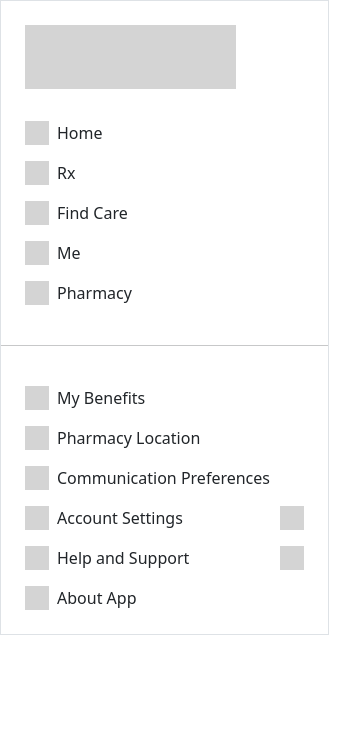
Test: Sidebar Component › toggles the "Account Settings" dropdown correctly
Expected: the text "Patient Account" is not shown
# Click to open dropdown
Click the text "Account Settings". click: (120, 518)
box: [57,506,183,530]
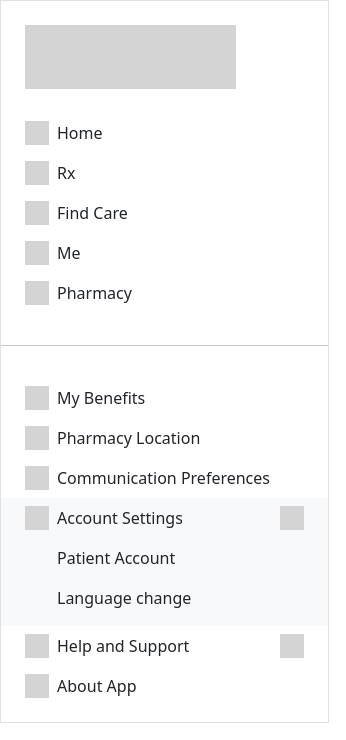
Now the link "Patient Account" is shown, box [57,547,175,569]
Now the link "Language change" is shown, box [57,587,191,609]
# Click to close dropdown
Click the text "Account Settings". click: (120, 518)
box: [57,506,183,530]
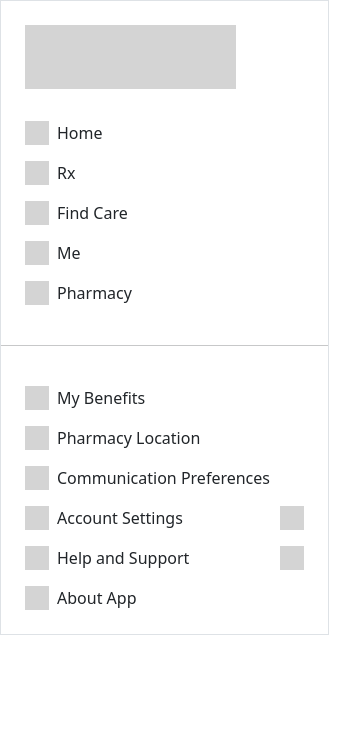
Now the link "Patient Account" is gone
